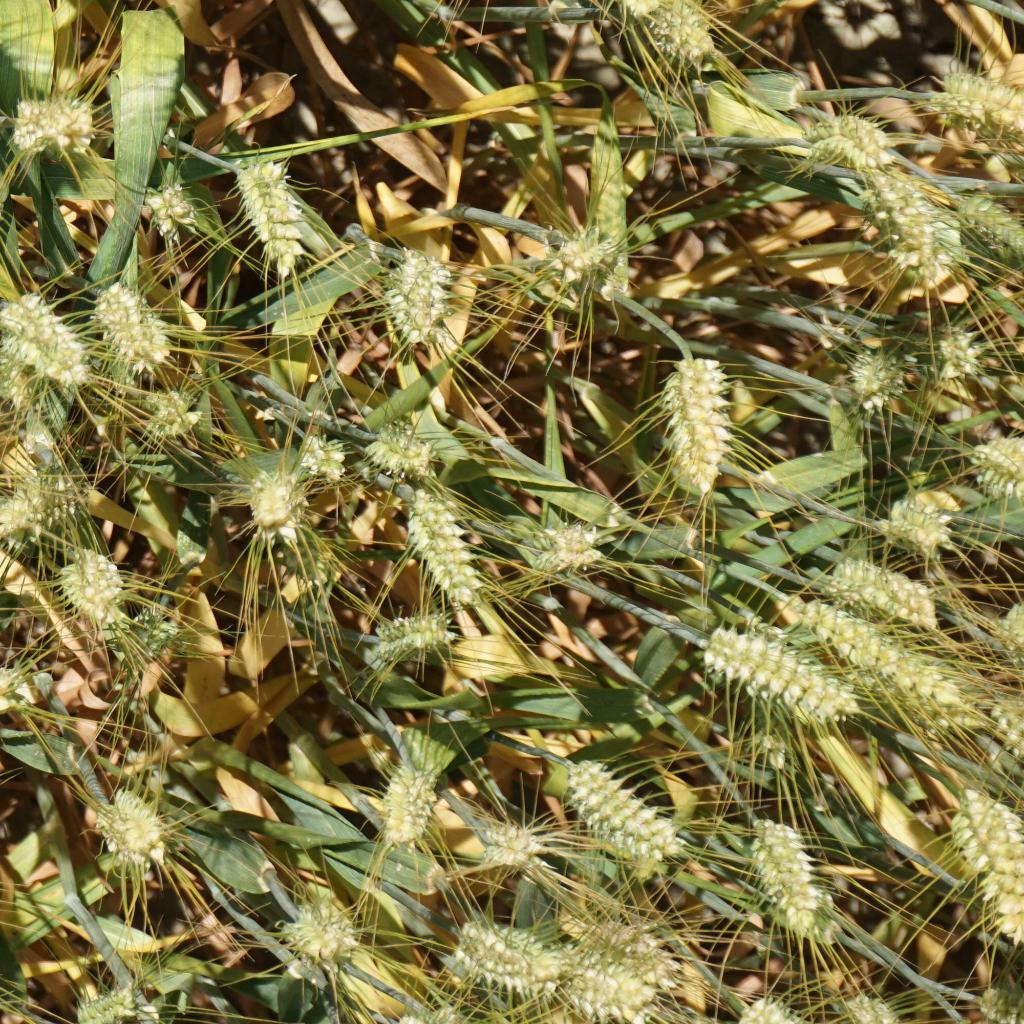0-0: (815, 595, 958, 708), (558, 759, 681, 858), (950, 786, 1024, 941), (816, 552, 945, 636), (714, 632, 841, 713), (860, 169, 948, 278), (662, 363, 732, 496), (447, 918, 560, 996), (0, 287, 84, 381), (410, 485, 481, 591), (279, 896, 376, 972), (549, 948, 660, 1014), (935, 63, 1024, 144), (387, 246, 455, 347), (753, 819, 824, 915), (376, 765, 450, 856), (100, 276, 179, 361), (233, 151, 290, 267), (588, 915, 681, 976), (54, 549, 125, 627), (2, 466, 78, 538), (92, 782, 161, 860), (467, 815, 547, 882), (374, 608, 466, 665), (851, 346, 921, 420), (959, 197, 1024, 266), (808, 109, 888, 165), (241, 468, 302, 540), (884, 494, 952, 557), (655, 7, 723, 70), (15, 102, 93, 153), (366, 423, 441, 475), (278, 534, 330, 607), (546, 519, 614, 571), (552, 224, 612, 281), (121, 600, 172, 667), (933, 325, 988, 387), (972, 438, 1024, 499), (142, 181, 195, 240), (150, 382, 203, 438), (294, 433, 352, 477), (84, 981, 141, 1022), (983, 682, 1024, 739), (842, 981, 892, 1024), (969, 985, 1023, 1024), (0, 359, 35, 409), (748, 991, 800, 1024), (0, 663, 22, 726), (583, 0, 659, 16)
